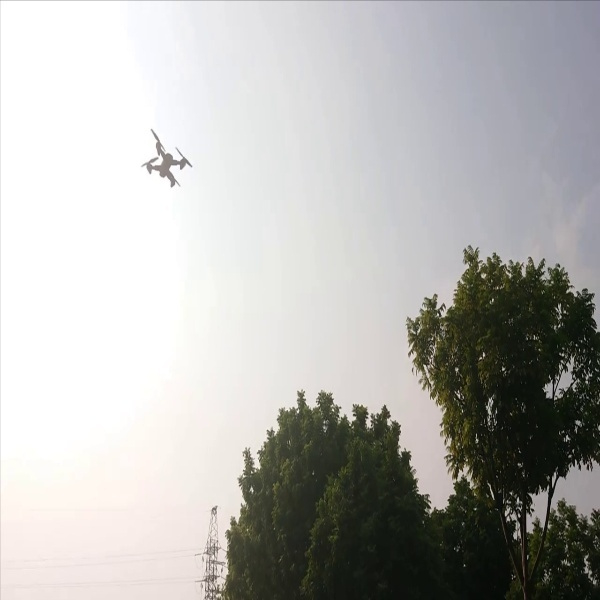drone: (135, 122, 198, 188)
